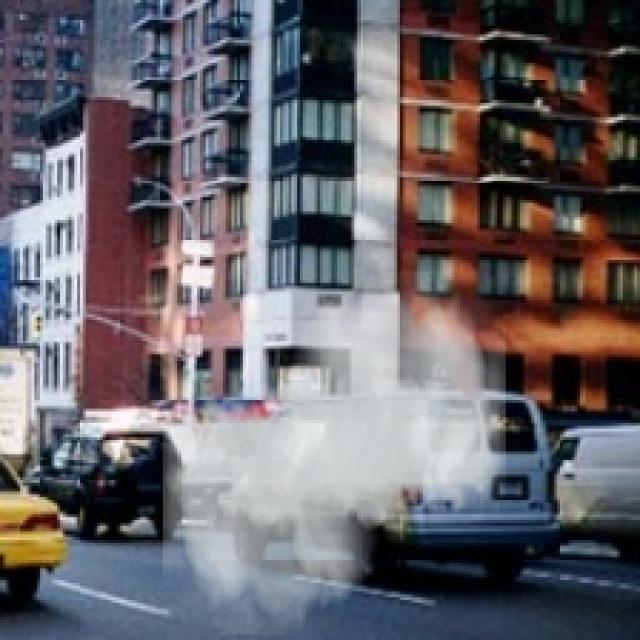Smoke: (163, 272, 506, 634)
